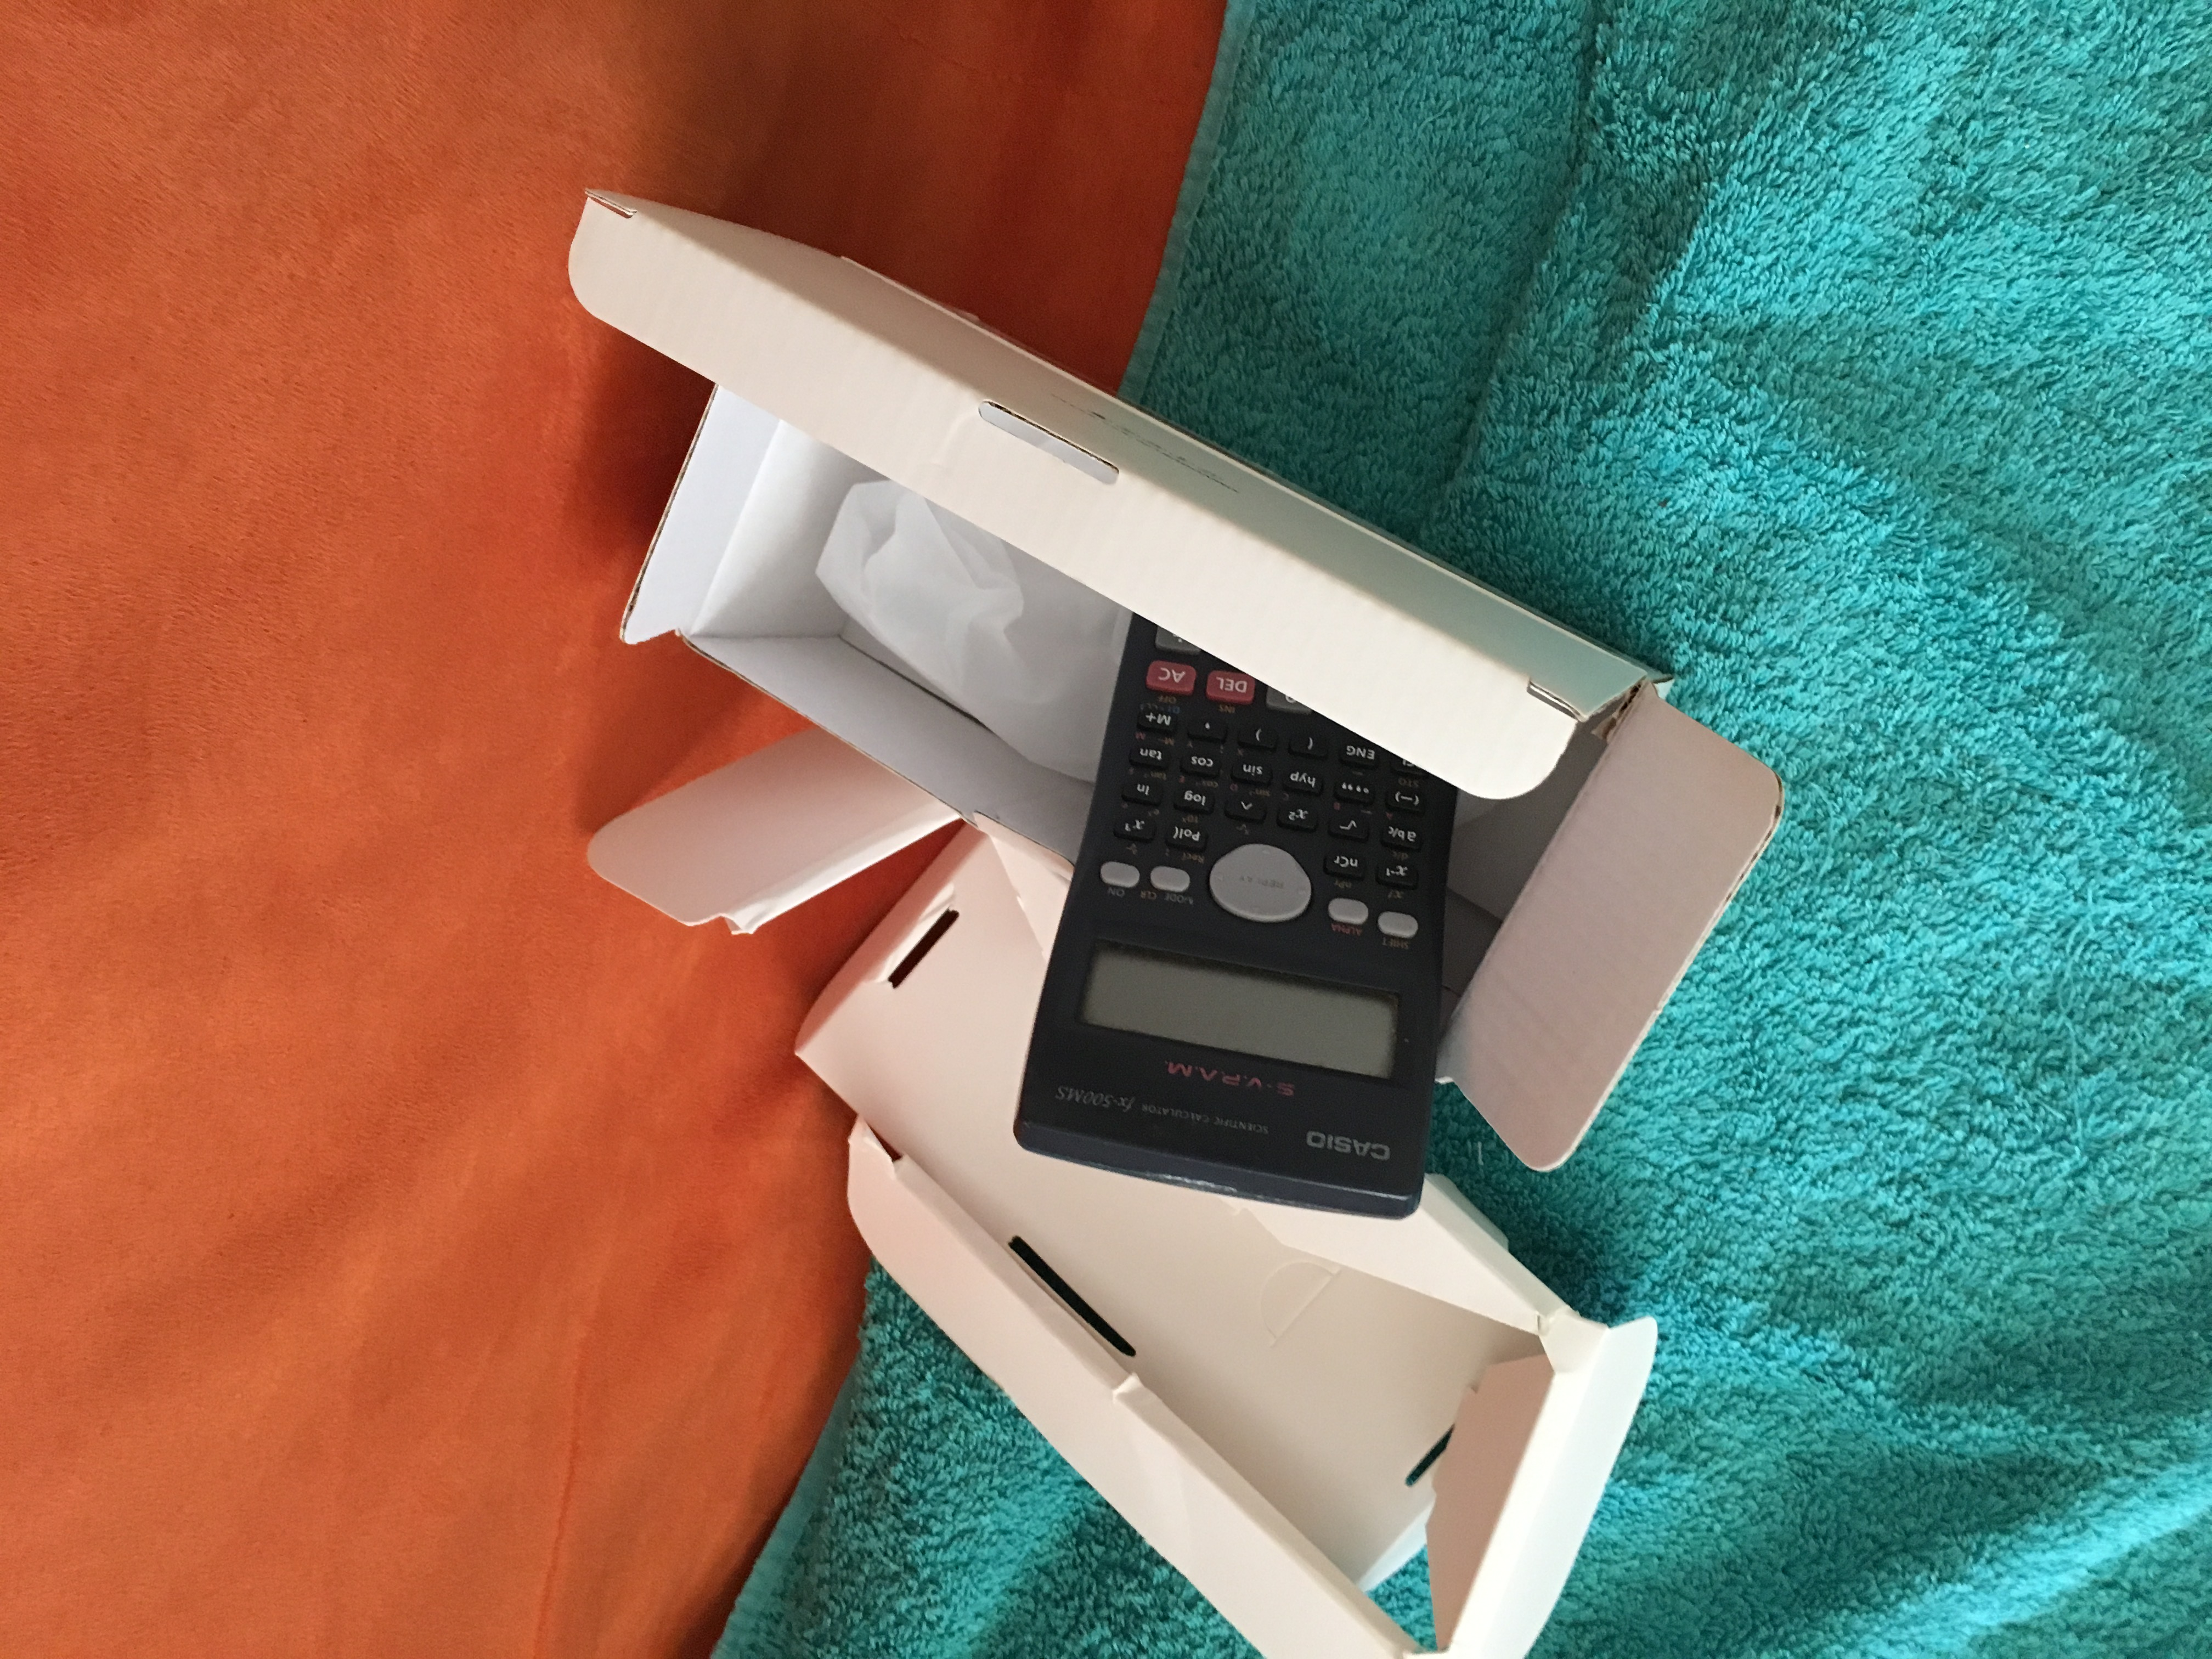Calculator: (1007, 577, 1461, 1230)
